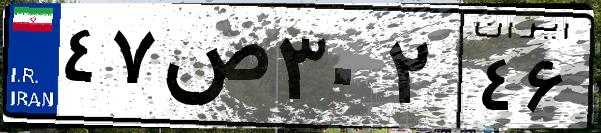0: (330, 28, 385, 110)
2: (385, 28, 445, 110)
3: (270, 28, 330, 110)
4: (57, 26, 110, 100), (475, 38, 525, 113)
6: (525, 38, 570, 115)
7: (110, 28, 158, 98)
ص: (158, 20, 270, 120)
